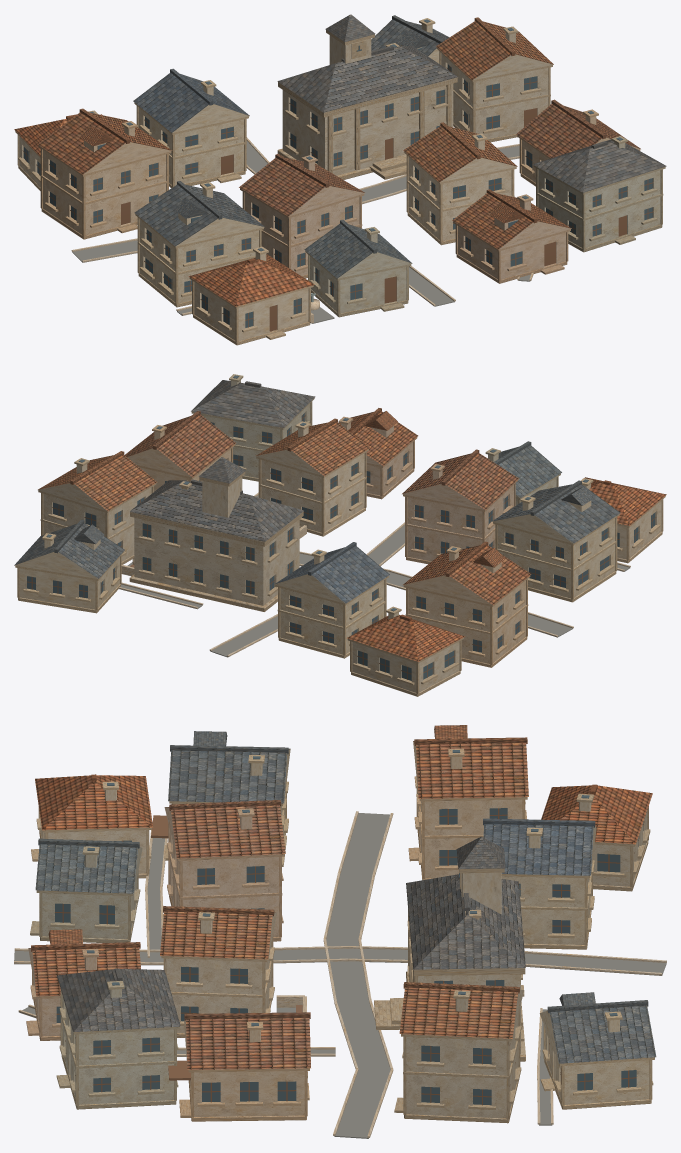
File: city_west_0.gltf
The picture shows the model from 3 angles, top to bottom: view 1: azimuth 30°, elevation 25°; view 2: azimuth 150°, elevation 25°; view 3: azimuth 270°, elevation 25°; orthographic projection. The views are drawn at different scales.
Parts seen in each view (by area): view 1: city_west_0; view 2: city_west_0; view 3: city_west_0.
Part boxes in pixels (box(x1,y1,x2,y2)): city_west_0: box(14, 14, 666, 345); city_west_0: box(14, 374, 666, 696); city_west_0: box(14, 725, 666, 1138).
Size of the model in its own units: 1 by 0.2513 by 0.8483.
Materials: 5 (1 with a texture image).
